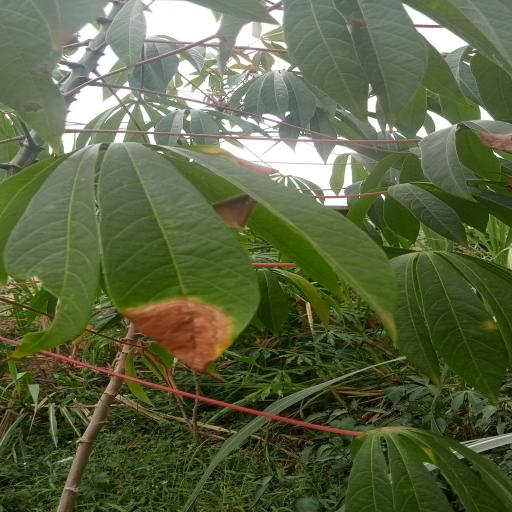Cassava_Root_Rot: (1, 139, 406, 366), (383, 248, 512, 395)
